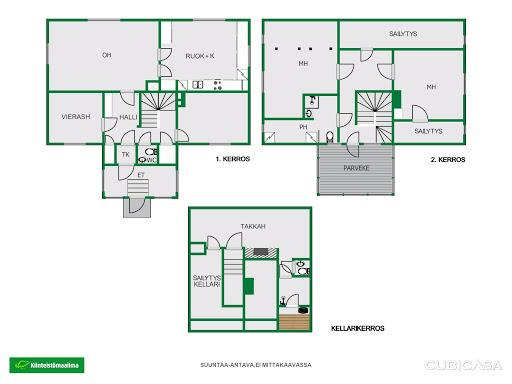bathroom: (304, 94, 338, 144), (137, 145, 158, 164), (293, 259, 312, 277)
door: (222, 232, 246, 249), (336, 63, 355, 82), (410, 103, 429, 122), (376, 62, 394, 81), (117, 164, 137, 181), (118, 89, 136, 107), (336, 111, 353, 130), (101, 115, 118, 133), (156, 46, 174, 63), (345, 142, 362, 160), (127, 198, 145, 214), (358, 47, 375, 63), (119, 130, 136, 145), (157, 63, 174, 78), (285, 293, 300, 309), (206, 235, 222, 250), (346, 130, 362, 145), (279, 263, 294, 278), (174, 128, 188, 144), (159, 131, 173, 147), (138, 130, 152, 146), (282, 260, 294, 275), (104, 132, 115, 146)
perimeter: (46, 18, 251, 197), (260, 18, 466, 146), (188, 206, 312, 334)
stairs: (374, 93, 393, 144), (140, 91, 176, 111), (141, 92, 159, 128), (356, 92, 375, 126), (220, 251, 245, 275), (128, 178, 150, 199)
window: (82, 16, 123, 24), (187, 17, 228, 24), (260, 67, 267, 98), (246, 42, 253, 71), (60, 140, 89, 147), (204, 141, 236, 147), (462, 69, 468, 99), (174, 167, 180, 197), (100, 166, 106, 194), (151, 195, 175, 200), (363, 142, 386, 147), (462, 31, 468, 48), (260, 31, 266, 46), (260, 120, 266, 134), (462, 123, 467, 138)
